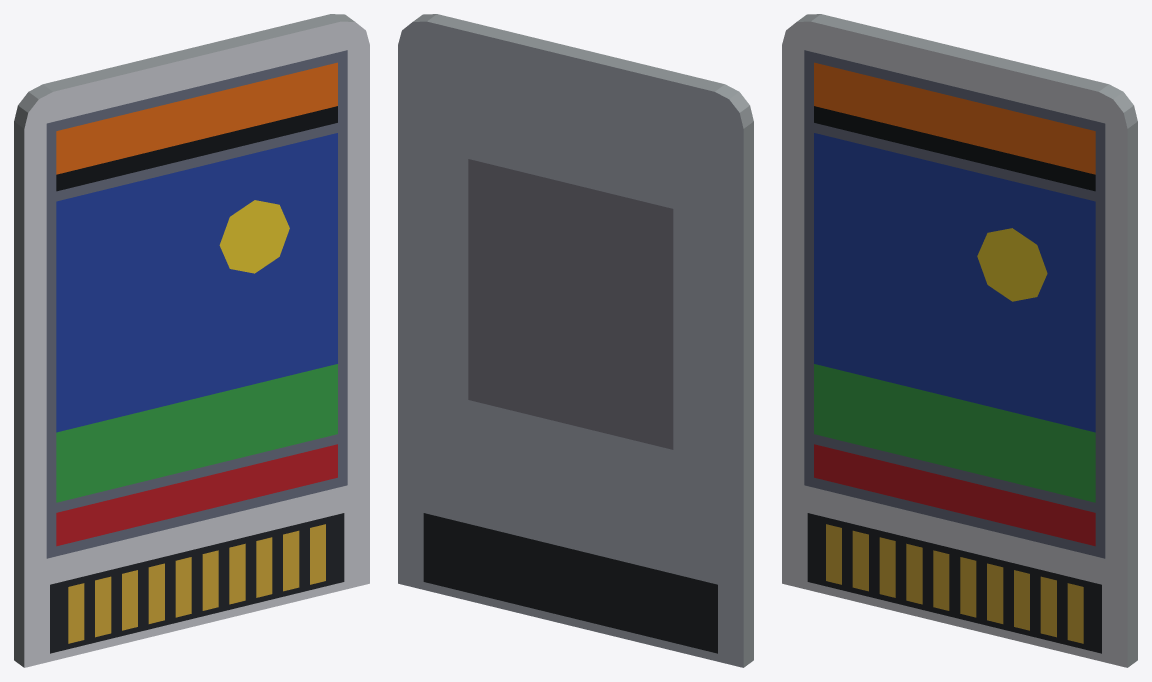
File: pcengine.obj
The picture shows the model from 3 angles, left to right: view 1: azimuth 30°, elevation 25°; view 2: azimuth 150°, elevation 25°; view 3: azimuth 330°, elevation 25°; orthographic projection.
Visible parts, largest first — view 1: pcengine; view 2: pcengine; view 3: pcengine.
Part boxes in pixels (box(x1,y1,x2,y2)): pcengine: box(14, 14, 369, 667); pcengine: box(398, 14, 753, 667); pcengine: box(782, 14, 1137, 667).
Size of the model in its own units: 5.4 by 8.5 by 0.28.
